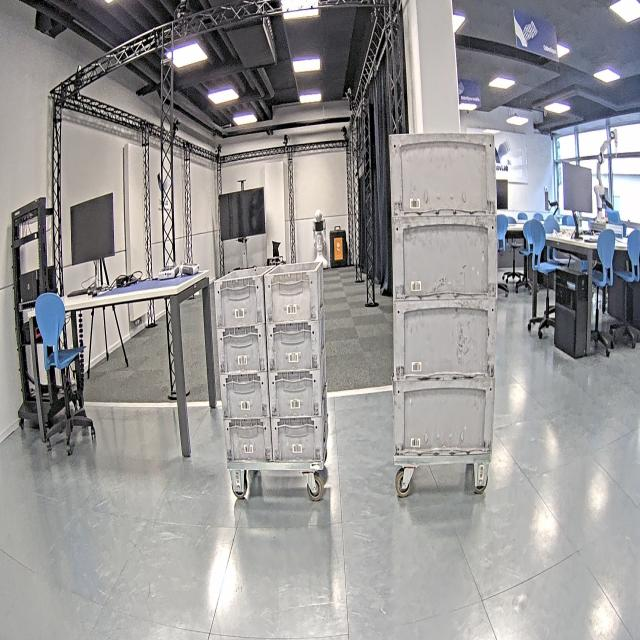Box4G: (389, 134, 498, 216), (392, 216, 497, 301), (393, 301, 497, 381), (392, 379, 496, 455)
Box8G: (266, 262, 323, 322), (214, 269, 267, 325), (269, 319, 326, 371), (268, 370, 328, 415), (271, 416, 328, 460), (218, 324, 266, 374), (219, 376, 270, 416), (225, 417, 271, 460)
